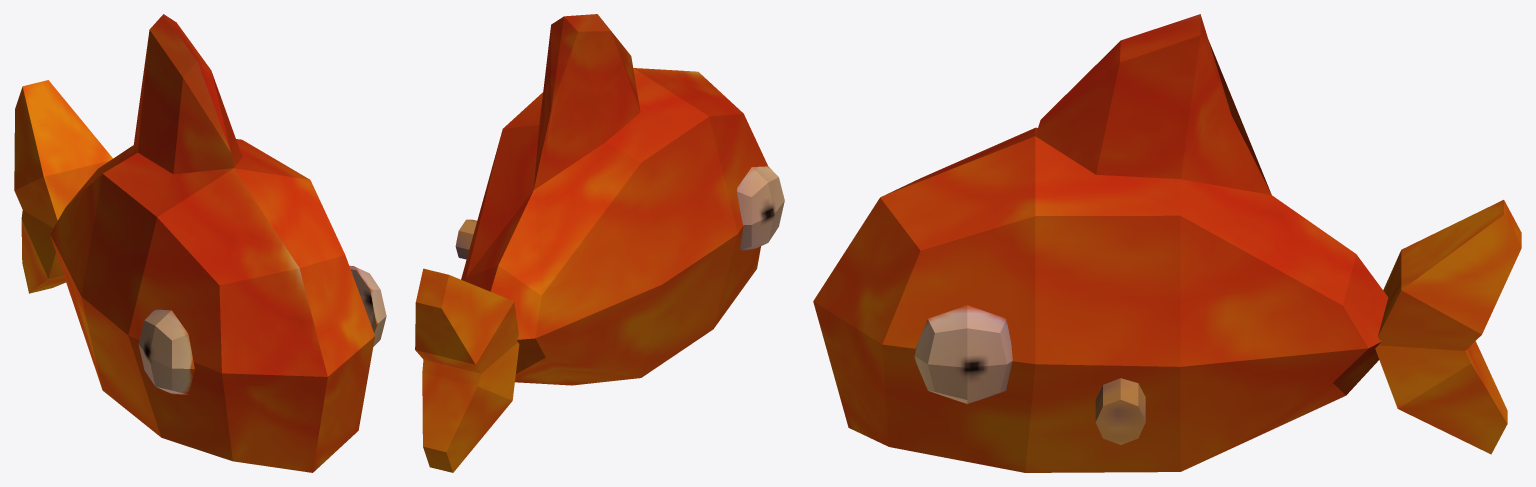
Rendered from goldfish.fbx.
3 views of the same model, side by side, from view 1: azimuth 30°, elevation 25°; view 2: azimuth 150°, elevation 25°; view 3: azimuth 270°, elevation 25° (orthographic). The views are drawn at different scales.
Parts seen in each view (by area): view 1: Goldfish; view 2: Goldfish; view 3: Goldfish.
Part boxes in pixels (x1,y1,x2,y2): Goldfish: (14, 14, 386, 472); Goldfish: (415, 14, 784, 472); Goldfish: (813, 14, 1521, 472).
Size of the model in its own units: 195 by 290 by 413.
